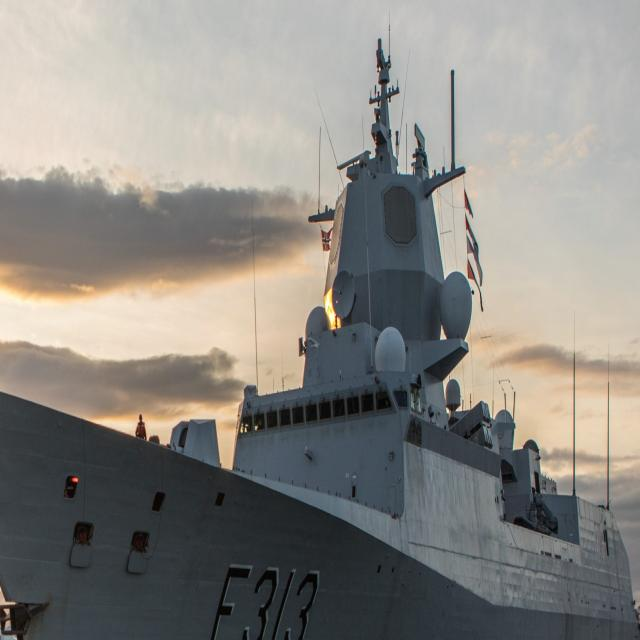Fragata: (1, 34, 447, 640)
